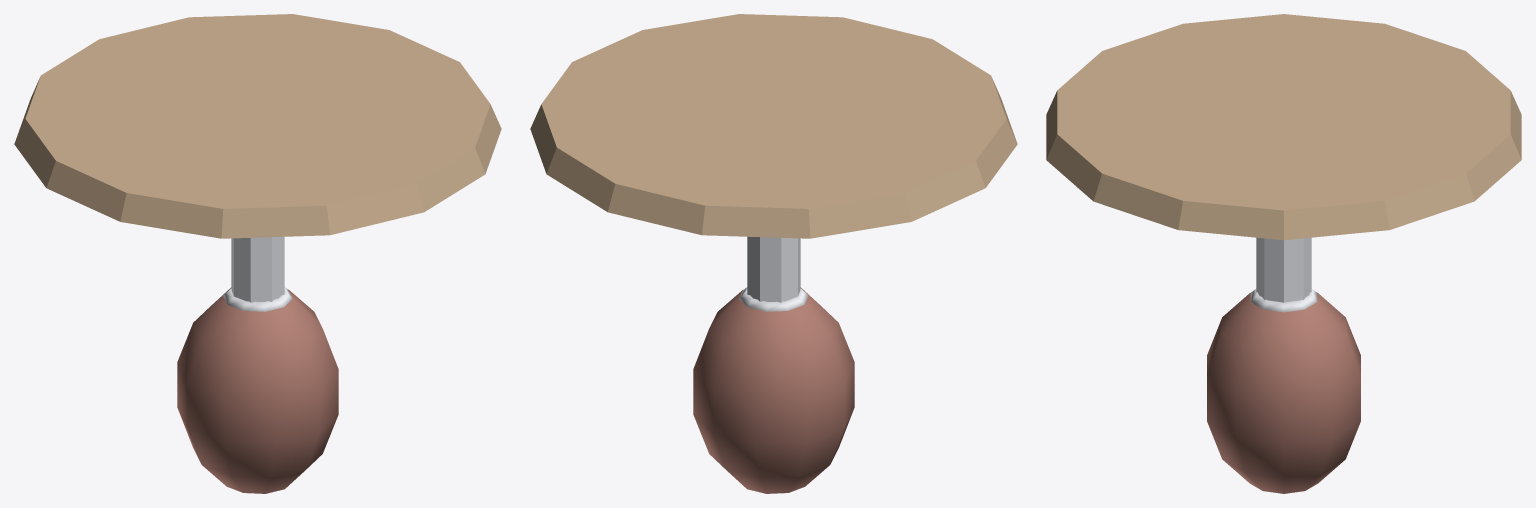
File: speed_bag.glb
The picture shows the model from 3 angles, left to right: view 1: azimuth 30°, elevation 25°; view 2: azimuth 150°, elevation 25°; view 3: azimuth 270°, elevation 25°; orthographic projection.
Parts seen in each view (by area): view 1: speed-bag; view 2: speed-bag; view 3: speed-bag.
Part boxes in pixels (x1,y1,x2,y2): speed-bag: [14, 14, 501, 493]; speed-bag: [530, 14, 1017, 493]; speed-bag: [1046, 14, 1521, 493].
Bounding box in the file's own units: 0.88 × 0.75 × 0.858.
